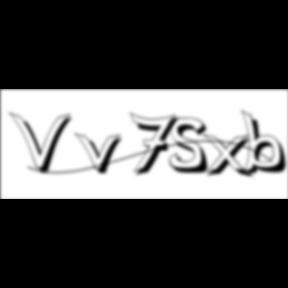7: (130, 111, 184, 179)
S: (169, 117, 215, 176)
V: (9, 110, 76, 176)
v: (75, 131, 129, 177)
x: (202, 132, 258, 181)
